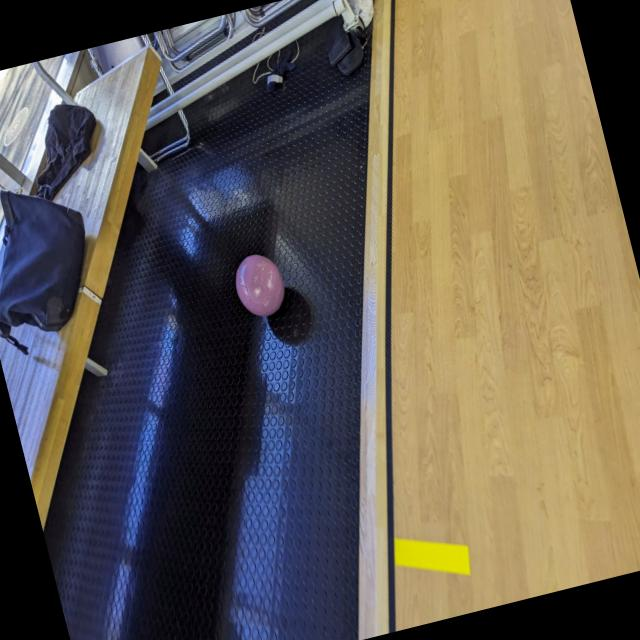purple_ball: (229, 247, 291, 320)
